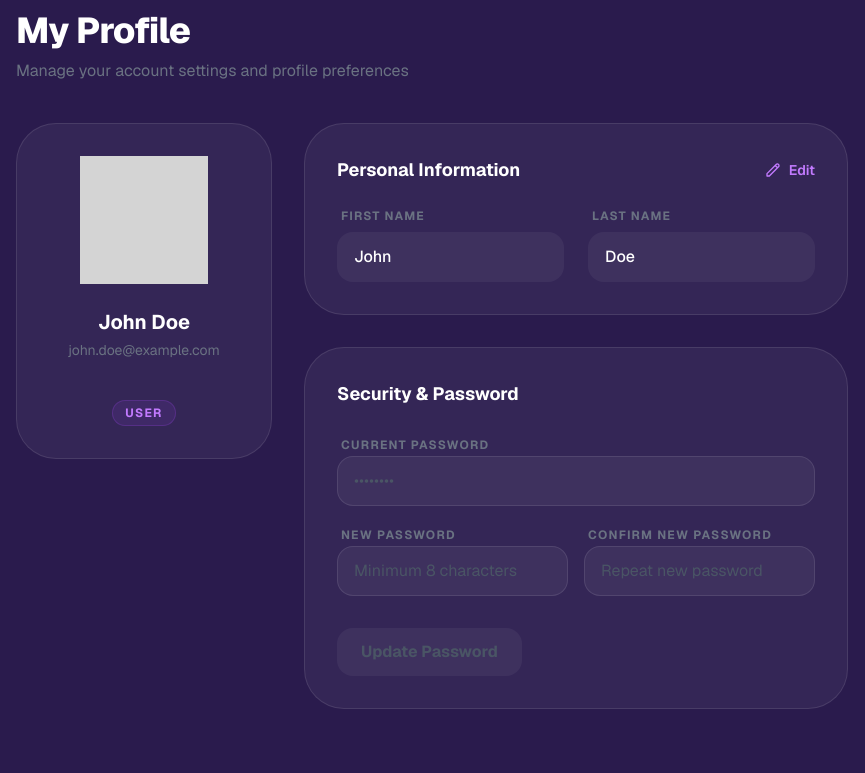
it: MyProfilePage › handles name edit flow
Expected: the heading "Personal Information" is shown, [337, 156, 520, 184]
Step 1. Click the button "Edit" → (790, 170), box [765, 160, 815, 180]
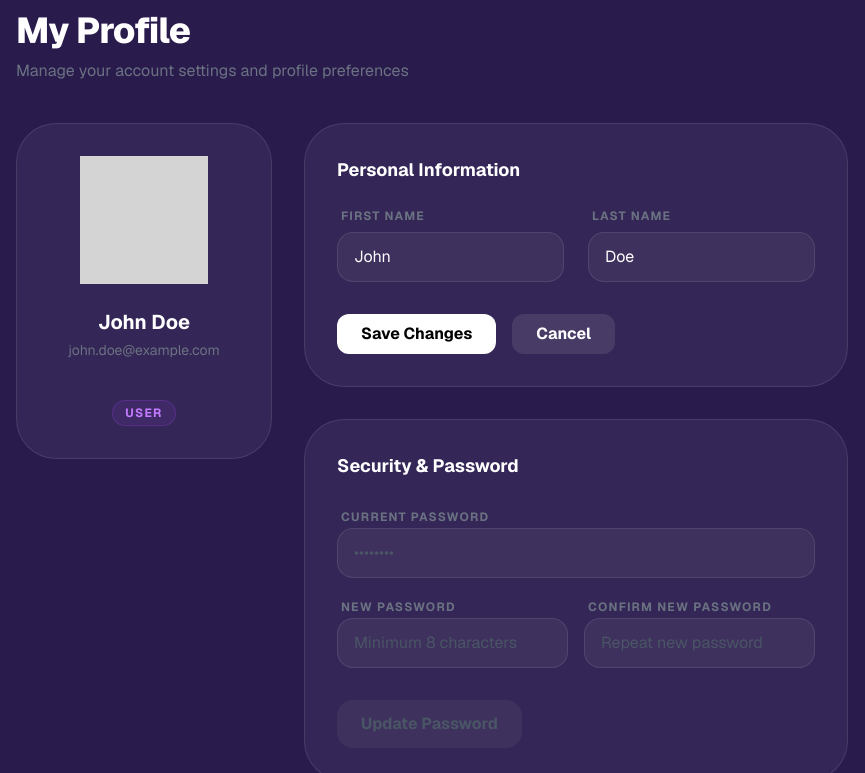
Step 2. Replace the text in the field showing "John" below "First Name" with "Jane" → (450, 257), box [337, 232, 564, 282]
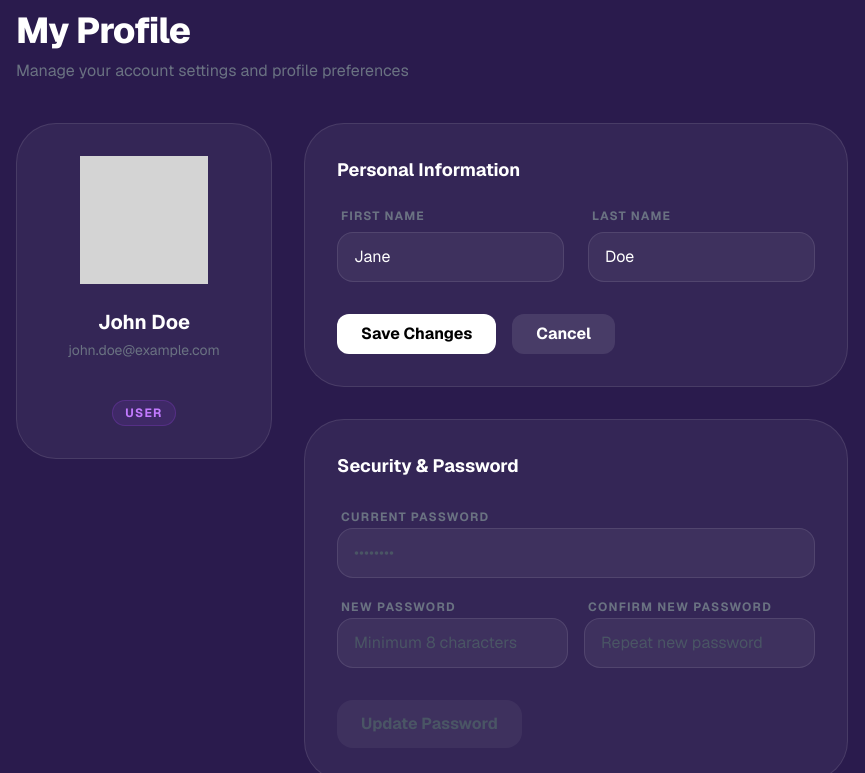
Step 3. Replace the text in the field showing "Doe" below "Last Name" with "Smith" → (702, 257), box [588, 232, 815, 282]
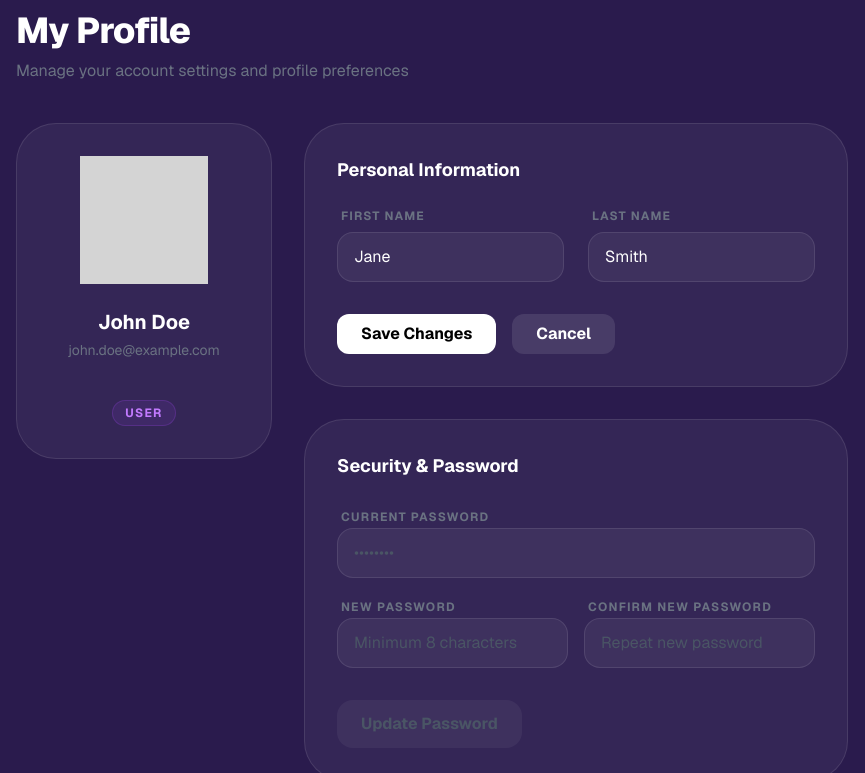
Step 4. Click the button "Save Changes" → (417, 334), box [337, 314, 496, 354]
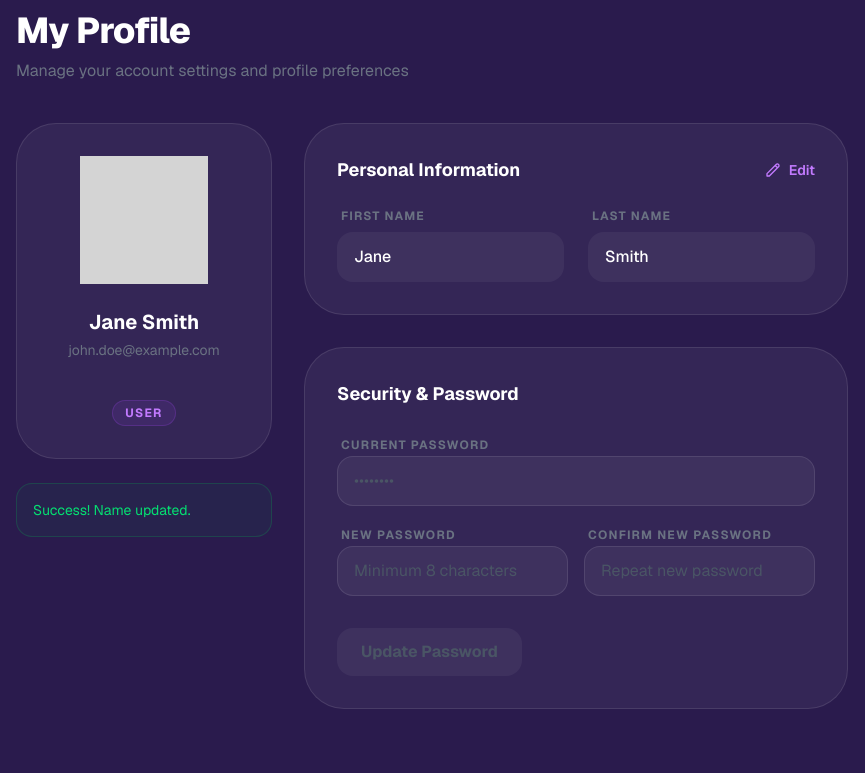
Expected: the text "Success! Name updated." is shown, [16, 483, 272, 537]
